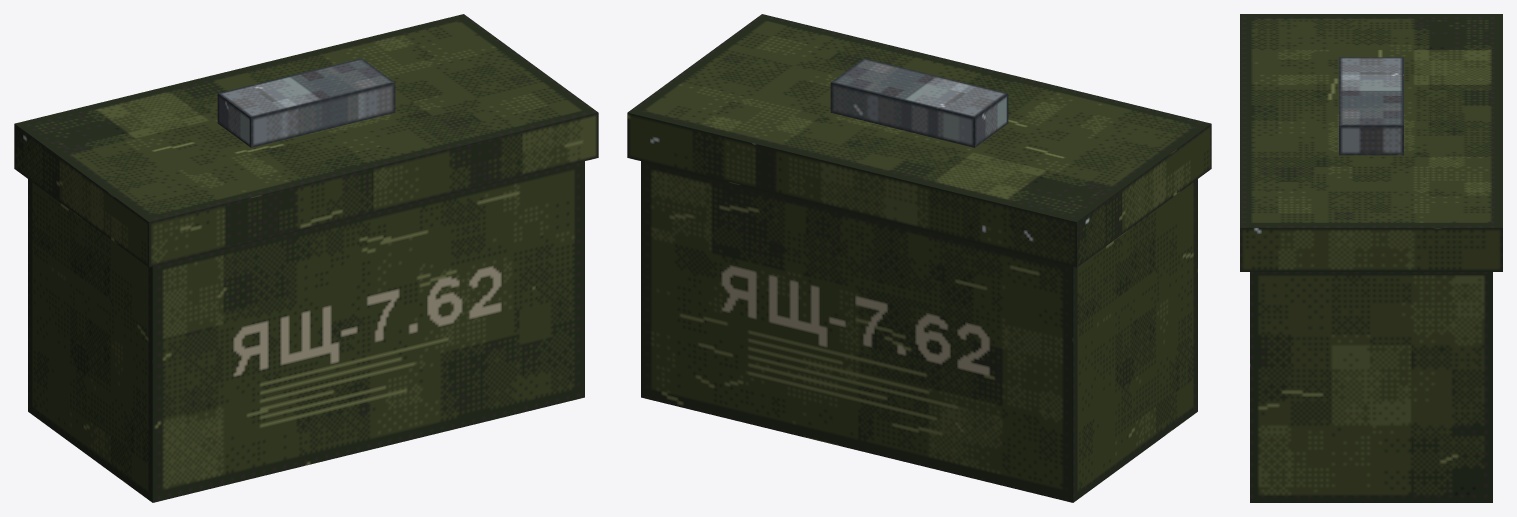
Rendered from SM_AmmoTin_01.fbx.
The picture shows the model from 3 angles, left to right: view 1: azimuth 30°, elevation 25°; view 2: azimuth 150°, elevation 25°; view 3: azimuth 270°, elevation 25°; orthographic projection. The views are drawn at different scales.
Visible parts, largest first — view 1: SM_AmmoTin_01; view 2: SM_AmmoTin_01; view 3: SM_AmmoTin_01.
Boxes of the visible parts, x1,y1,x2,y2 form: SM_AmmoTin_01: [14, 14, 598, 502]; SM_AmmoTin_01: [627, 14, 1211, 502]; SM_AmmoTin_01: [1240, 14, 1502, 502].
Size of the model in its own units: 0.312 by 0.21 by 0.162.
1 material, 1 textured.
